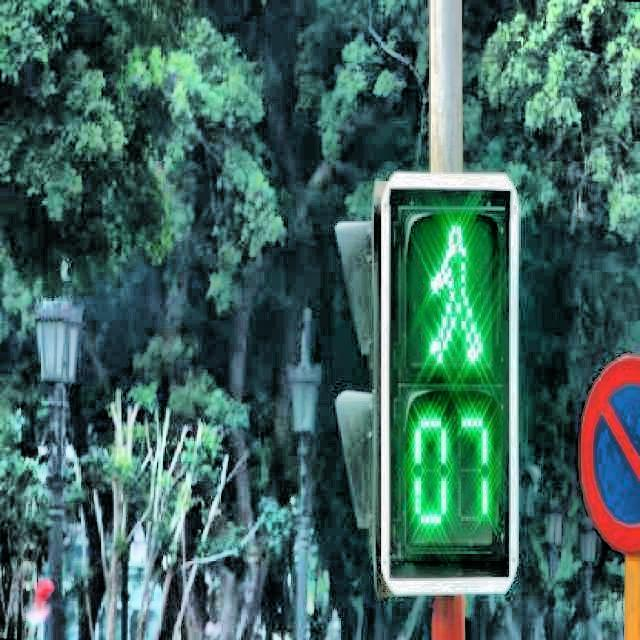semaforo pedestre: (266, 115, 608, 635)
